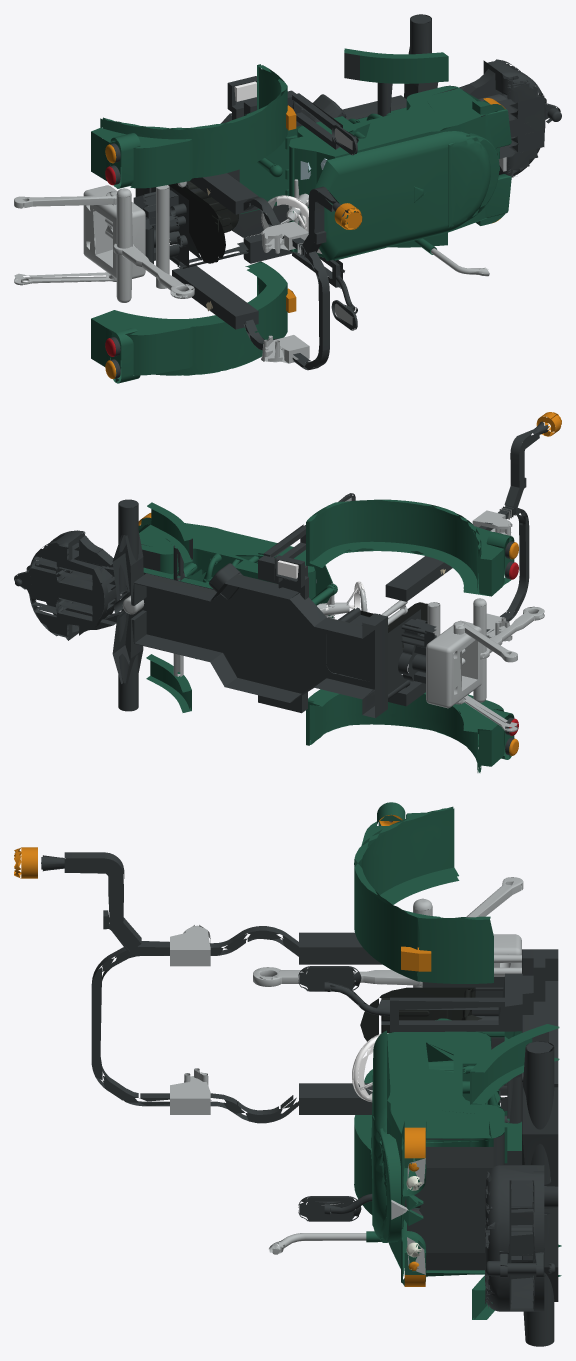
File: vehicle_visual.obj
3 views of the same model, one above another, from view 1: azimuth 30°, elevation 25°; view 2: azimuth 150°, elevation 25°; view 3: azimuth 270°, elevation 25° (orthographic). The views are drawn at different scales.
Parts seen in each view (by area): view 1: 0030_Product1_AllCATPart, 0004_Product1_AllCATPart, 0048_Product1_AllCATPart, 0047_Product1_AllCATPart, 0001_Product1_AllCATPart, 0046_Product1_AllCATPart, 0035_Product1_AllCATPart, 0017_Product1_AllCATPart, 0049_Product1_AllCATPart, 0016_Product1_AllCATPart, 0014_Product1_AllCATPart, 0040_Product1_AllCATPart (+7 smaller); view 2: 0001_Product1_AllCATPart, 0048_Product1_AllCATPart, 0047_Product1_AllCATPart, 0004_Product1_AllCATPart, 0035_Product1_AllCATPart, 0046_Product1_AllCATPart, 0017_Product1_AllCATPart, 0049_Product1_AllCATPart, 0040_Product1_AllCATPart, 0015_Product1_AllCATPart, 0005_Product1_AllCATPart, 0026_Product1_AllCATPart (+5 smaller); view 3: 0004_Product1_AllCATPart, 0001_Product1_AllCATPart, 0048_Product1_AllCATPart, 0046_Product1_AllCATPart, 0015_Product1_AllCATPart, 0030_Product1_AllCATPart, 0040_Product1_AllCATPart, 0017_Product1_AllCATPart, 0035_Product1_AllCATPart, 0047_Product1_AllCATPart, 0014_Product1_AllCATPart, 0042_Product1_AllCATPart (+4 smaller).
Part boxes in pixels (left/top/right/bottom): 0030_Product1_AllCATPart: left=315, top=131, right=499, bottom=260; 0004_Product1_AllCATPart: left=289, top=48, right=511, bottom=274; 0048_Product1_AllCATPart: left=91, top=64, right=287, bottom=188; 0047_Product1_AllCATPart: left=91, top=261, right=287, bottom=383; 0001_Product1_AllCATPart: left=135, top=14, right=561, bottom=247; 0046_Product1_AllCATPart: left=172, top=173, right=329, bottom=370; 0035_Product1_AllCATPart: left=83, top=185, right=194, bottom=302; 0017_Product1_AllCATPart: left=168, top=181, right=238, bottom=263; 0049_Product1_AllCATPart: left=133, top=186, right=188, bottom=267; 0016_Product1_AllCATPart: left=239, top=125, right=302, bottom=214; 0014_Product1_AllCATPart: left=243, top=234, right=357, bottom=330; 0040_Product1_AllCATPart: left=301, top=186, right=362, bottom=257; 0001_Product1_AllCATPart: left=14, top=499, right=387, bottom=718; 0048_Product1_AllCATPart: left=306, top=499, right=518, bottom=596; 0047_Product1_AllCATPart: left=306, top=689, right=518, bottom=772; 0004_Product1_AllCATPart: left=121, top=502, right=315, bottom=659; 0035_Product1_AllCATPart: left=426, top=598, right=544, bottom=708; 0046_Product1_AllCATPart: left=385, top=506, right=529, bottom=706; 0017_Product1_AllCATPart: left=326, top=602, right=427, bottom=688; 0049_Product1_AllCATPart: left=388, top=609, right=436, bottom=694; 0040_Product1_AllCATPart: left=503, top=412, right=561, bottom=516; 0015_Product1_AllCATPart: left=258, top=493, right=355, bottom=583; 0005_Product1_AllCATPart: left=146, top=654, right=191, bottom=712; 0026_Product1_AllCATPart: left=317, top=581, right=367, bottom=618; 0004_Product1_AllCATPart: left=279, top=1018, right=559, bottom=1286; 0001_Product1_AllCATPart: left=485, top=949, right=558, bottom=1346; 0048_Product1_AllCATPart: left=354, top=802, right=493, bottom=983; 0046_Product1_AllCATPart: left=91, top=926, right=382, bottom=1123; 0015_Product1_AllCATPart: left=298, top=966, right=522, bottom=1031; 0030_Product1_AllCATPart: left=370, top=1030, right=401, bottom=1242; 0040_Product1_AllCATPart: left=14, top=847, right=141, bottom=951; 0017_Product1_AllCATPart: left=360, top=987, right=507, bottom=1095; 0035_Product1_AllCATPart: left=253, top=898, right=521, bottom=987; 0047_Product1_AllCATPart: left=354, top=1069, right=372, bottom=1214; 0014_Product1_AllCATPart: left=298, top=1193, right=372, bottom=1221; 0042_Product1_AllCATPart: left=170, top=1068, right=210, bottom=1114.
Bounding box in the file's own units: 1.35 × 0.6118 × 0.9064.
